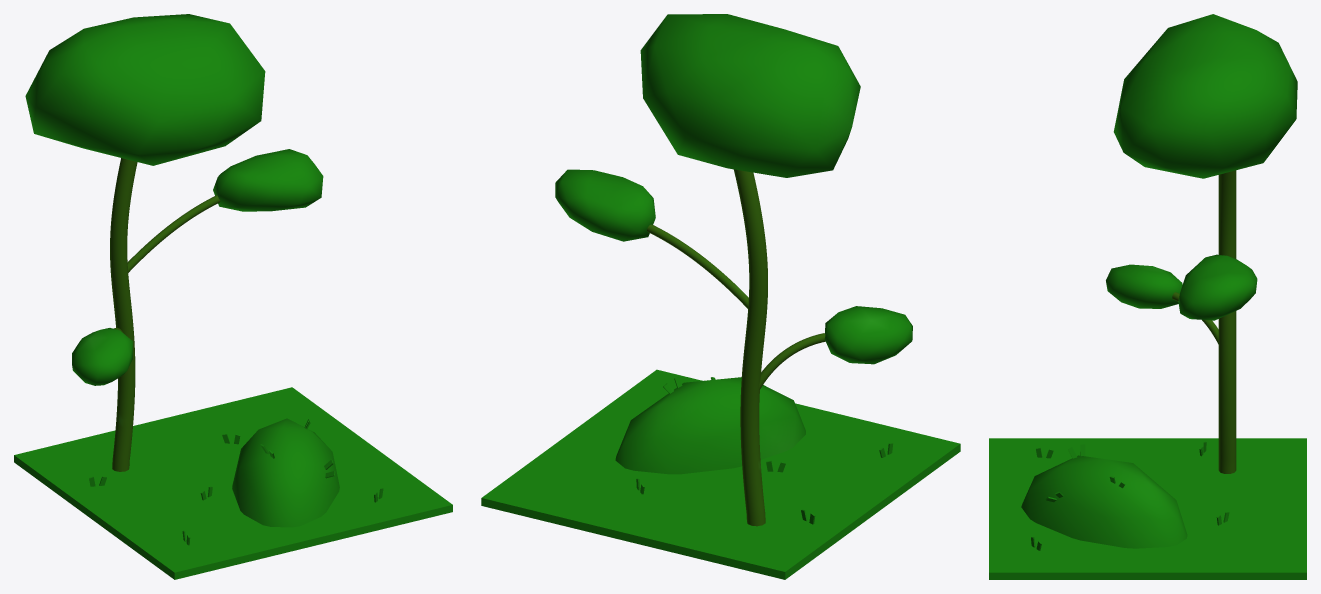
File: Tile1x1ArvorePlanta.fbx
The picture shows the model from 3 angles, left to right: view 1: azimuth 30°, elevation 25°; view 2: azimuth 150°, elevation 25°; view 3: azimuth 270°, elevation 25°; orthographic projection. The views are drawn at different scales.
Parts seen in each view (by area): view 1: Vege.arvore; view 2: Vege.arvore; view 3: Vege.arvore.
Boxes of the visible parts, x1,y1,x2,y2 form: Vege.arvore: (14,14,452,579); Vege.arvore: (481,14,960,579); Vege.arvore: (989,14,1306,579).
Size of the model in its own units: 436 by 622 by 400.
